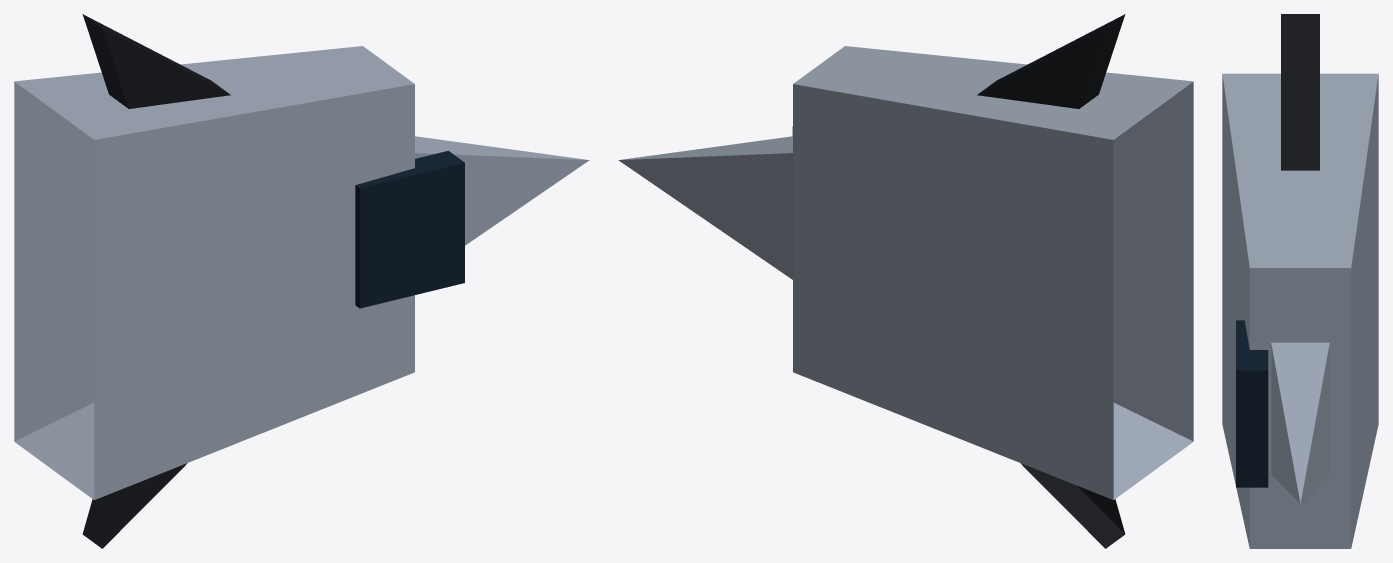
Rendered from controller.obj.
3 renders of one model, left to right at view 1: azimuth 30°, elevation 25°; view 2: azimuth 150°, elevation 25°; view 3: azimuth 270°, elevation 25°, orthographic. The views are drawn at different scales.
Parts seen in each view (by area): view 1: controller; view 2: controller; view 3: controller.
Boxes of the visible parts, left/top/right/bottom form: controller: left=14, top=14, right=589, bottom=548; controller: left=618, top=14, right=1193, bottom=548; controller: left=1222, top=14, right=1378, bottom=548.
Size of the model in its own units: 5.6 by 5.2 by 1.45.
